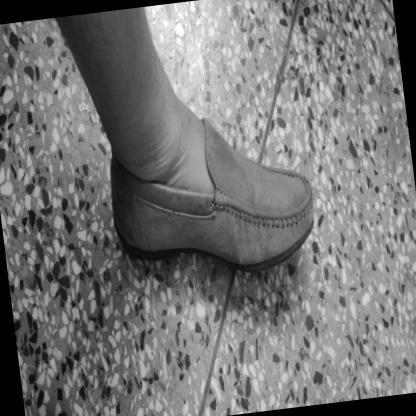ankle: (169, 191, 174, 201)
heel: (116, 221, 121, 228)
left_foot: (101, 99, 322, 290)
pinky: (284, 172, 289, 180)
toe: (298, 222, 305, 233)
